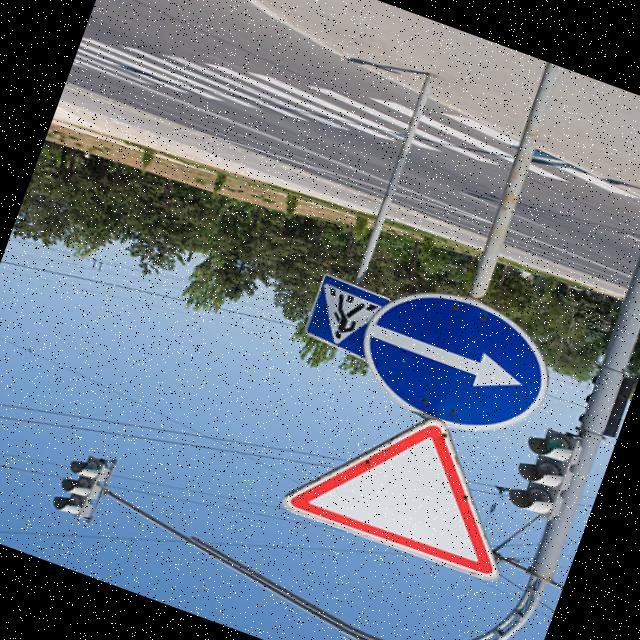give_way: (264, 374, 550, 601)
